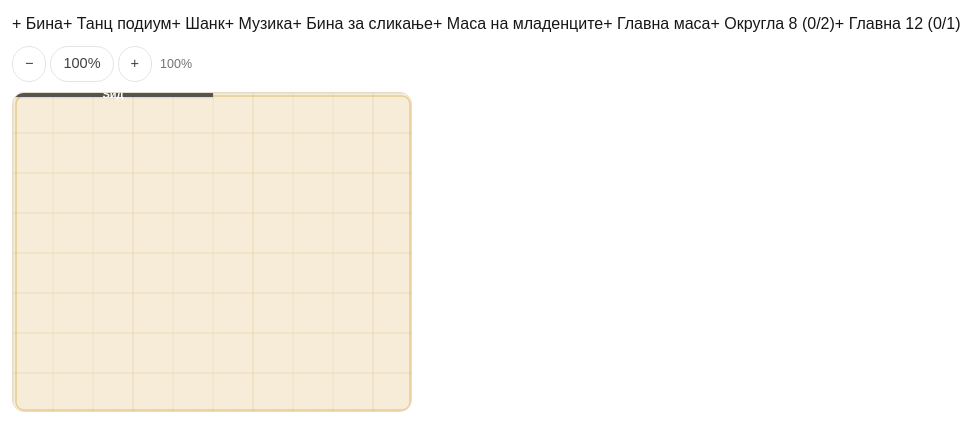
it: WizardRoomLayoutEditor › adding a table of a given type increments its placed count and disables the button at quantity
Click the button "+ Округла 8 (0/2)" at coordinates (773, 24), box [710, 12, 835, 36]
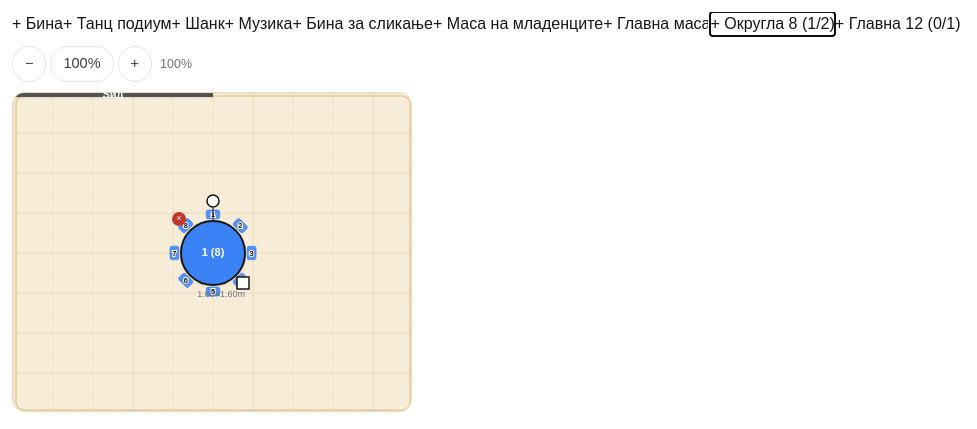
Check: the button "+ Округла 8 (1/2)" is shown
Click the button "+ Округла 8 (1/2)" at coordinates (773, 24), box [710, 12, 835, 36]
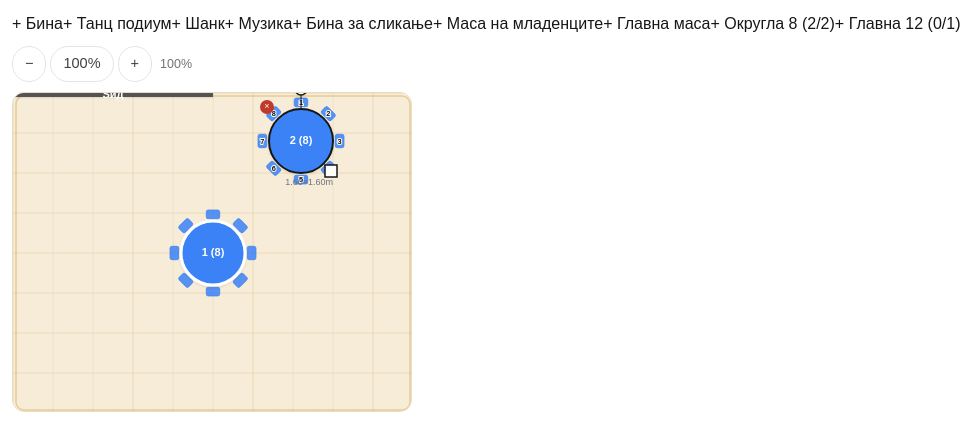
Check: the button "+ Округла 8 (2/2)" is disabled, box [710, 12, 835, 36]
